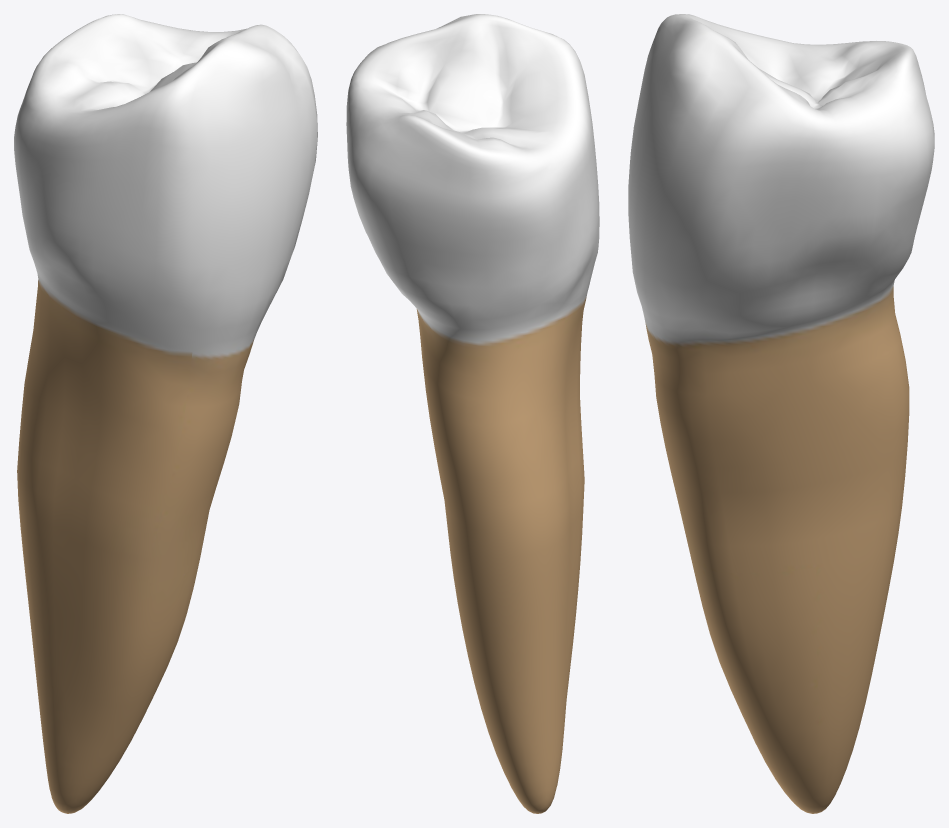
3 renders of one model, left to right at view 1: azimuth 30°, elevation 25°; view 2: azimuth 150°, elevation 25°; view 3: azimuth 270°, elevation 25°, orthographic. The views are drawn at different scales.
Visible parts, largest first — view 1: polySurface20 group4 dfhjghkljk; view 2: polySurface20 group4 dfhjghkljk; view 3: polySurface20 group4 dfhjghkljk.
Part boxes in pixels (x1=…): polySurface20 group4 dfhjghkljk: x1=14, y1=14, x2=317, y2=813; polySurface20 group4 dfhjghkljk: x1=346, y1=14, x2=599, y2=813; polySurface20 group4 dfhjghkljk: x1=628, y1=14, x2=934, y2=813.
Size of the model in its own units: 2.11 by 6.42 by 2.12.
1 material, 1 textured.
